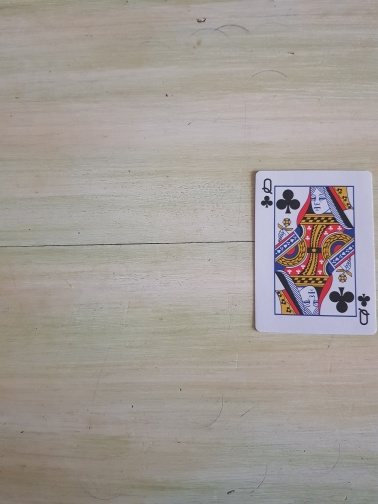queen: (250, 168, 378, 336)
